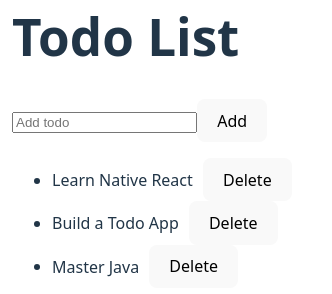
it: TodoList Component › deletes a todo
What coordinates should you click on to do the following:
click the button with test id "delete-btn" next to "Build a Todo App"
I would click on:
 (233, 223)
Its box is [189, 202, 278, 245].
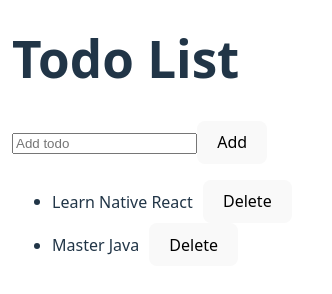
Check: the list item "Build a Todo App" is gone
